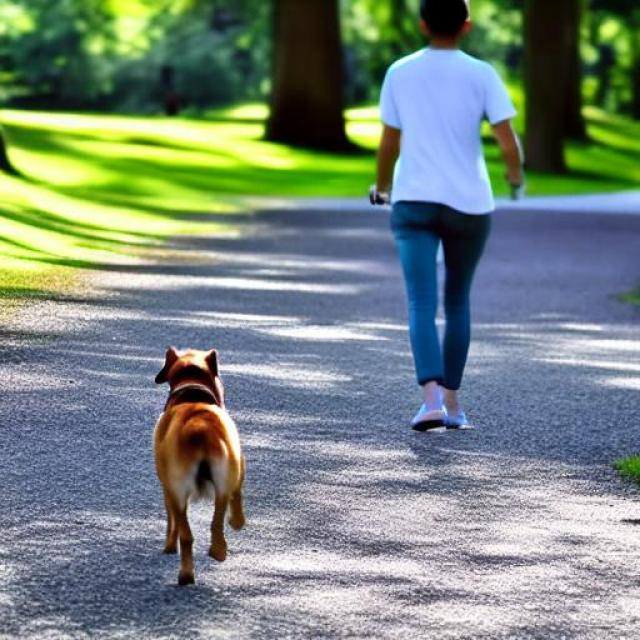Unleashed_Dog: (153, 195, 489, 587)
